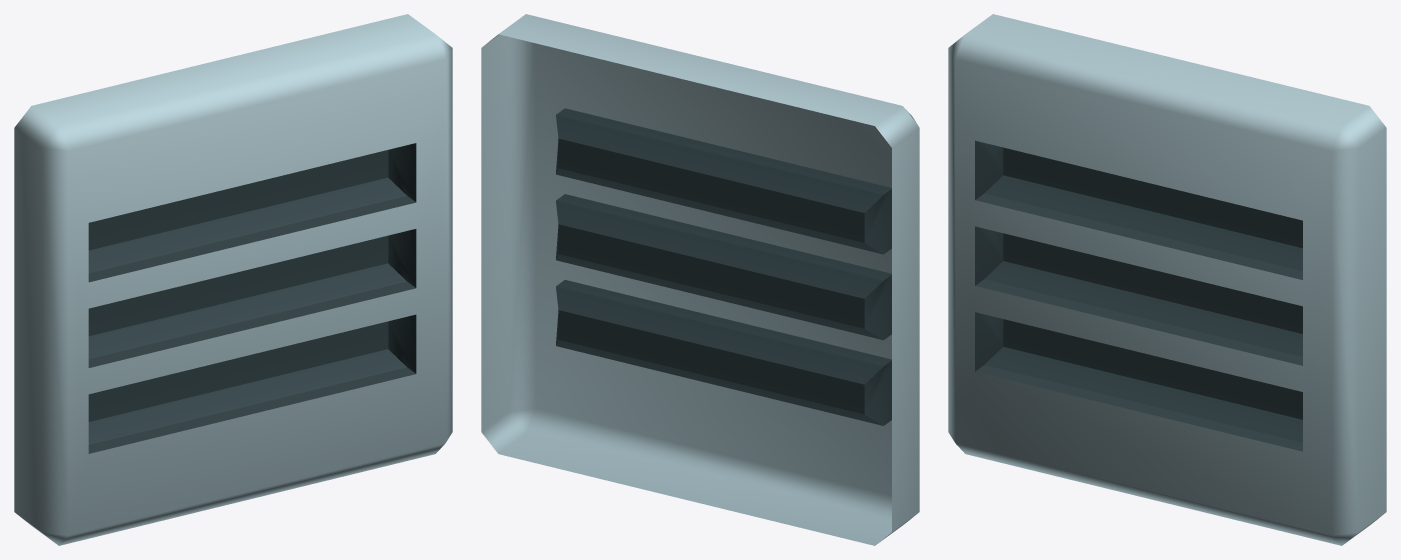
Rendered from SM_Factory_Panel_03.fbx.
3 views of the same model, side by side, from view 1: azimuth 30°, elevation 25°; view 2: azimuth 150°, elevation 25°; view 3: azimuth 330°, elevation 25° (orthographic).
Visible parts, largest first — view 1: polySurface9; view 2: polySurface9; view 3: polySurface9.
Boxes of the visible parts, bbox=[...] form: polySurface9: bbox=[14, 14, 452, 545]; polySurface9: bbox=[481, 14, 919, 545]; polySurface9: bbox=[948, 14, 1386, 545].
Size of the model in its own units: 51.87 by 8.21 by 50.65.
